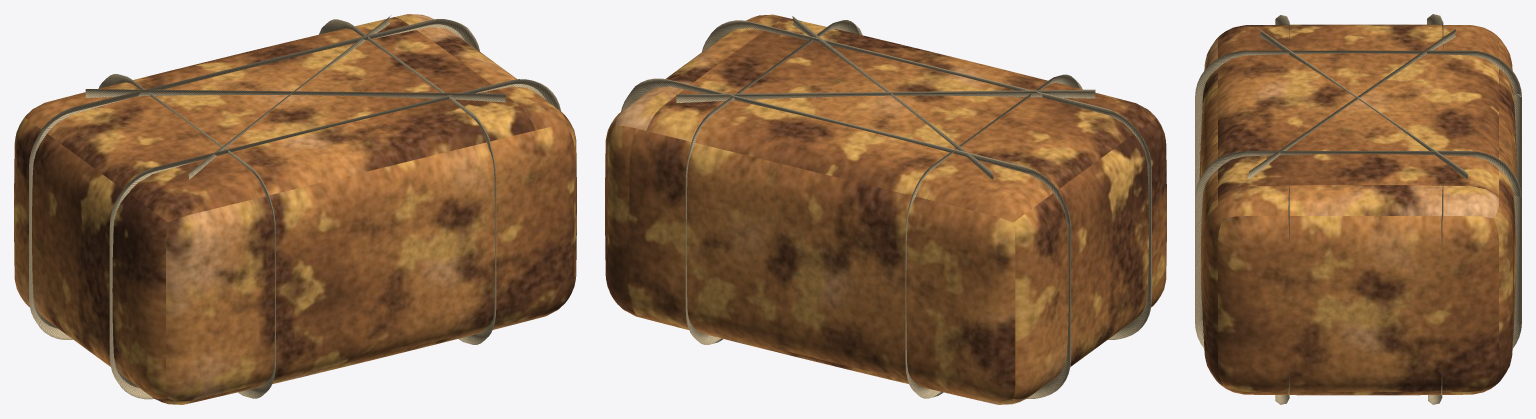
Rendered from caixa_bl.glb.
The picture shows the model from 3 angles, left to right: view 1: azimuth 30°, elevation 25°; view 2: azimuth 150°, elevation 25°; view 3: azimuth 270°, elevation 25°; orthographic projection. The views are drawn at different scales.
Visible parts, largest first — view 1: caixa_bl; view 2: caixa_bl; view 3: caixa_bl.
Boxes of the visible parts, bbox=[...] form: caixa_bl: bbox=[14, 14, 576, 404]; caixa_bl: bbox=[605, 14, 1166, 404]; caixa_bl: bbox=[1195, 14, 1521, 404].
Bounding box in the file's own units: 20.44 × 10.13 × 13.64.
Materials: 2 (2 with a texture image).
